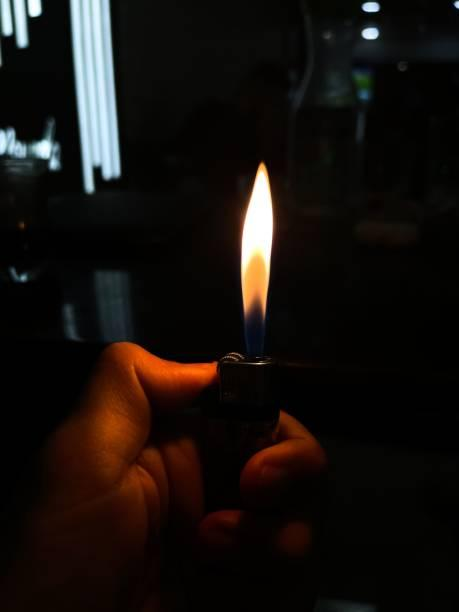Fire: (234, 155, 283, 346)
